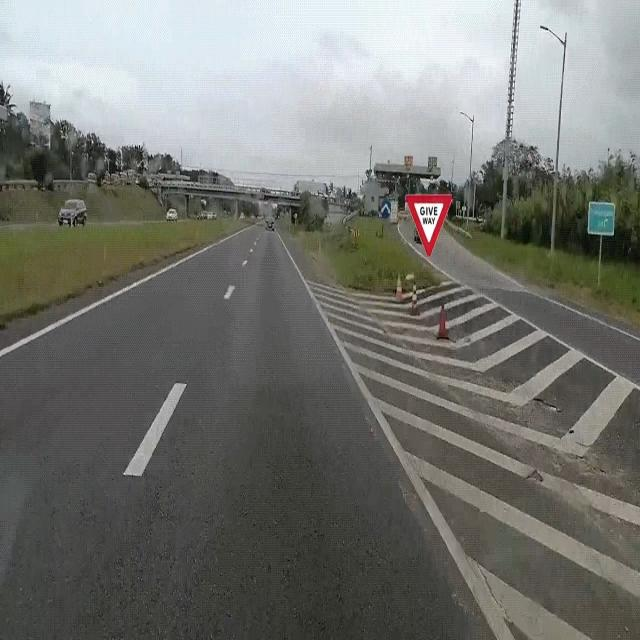Ceder-le-Passage: (403, 180, 458, 268)
